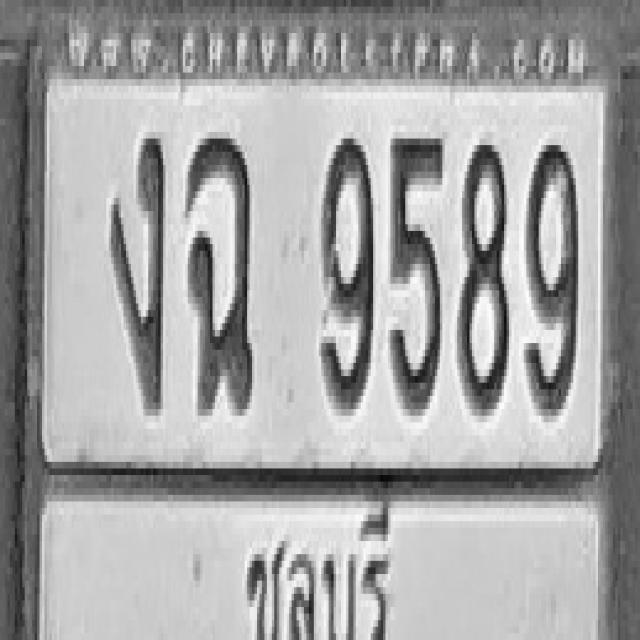16NgorNgu: (110, 132, 164, 409)
18ChorChing: (185, 132, 252, 409)
5: (389, 132, 444, 409)
8: (457, 139, 509, 409)
9: (321, 132, 373, 409), (525, 136, 577, 412)
Chonburi: (238, 497, 398, 640)
